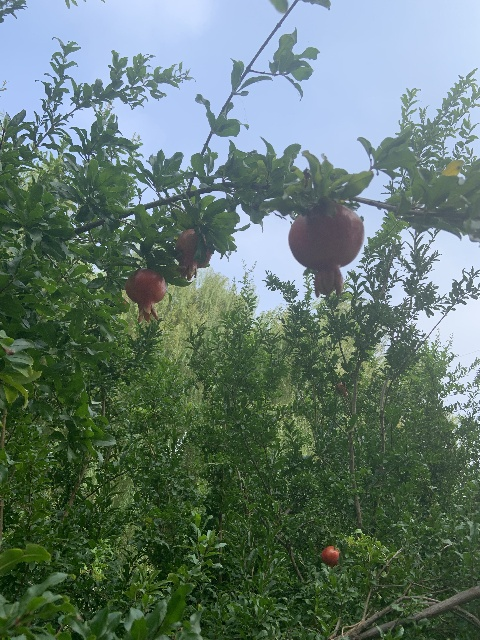ripe: (287, 203, 364, 297), (124, 268, 166, 322), (175, 228, 212, 280), (320, 546, 339, 567), (333, 382, 348, 397)
